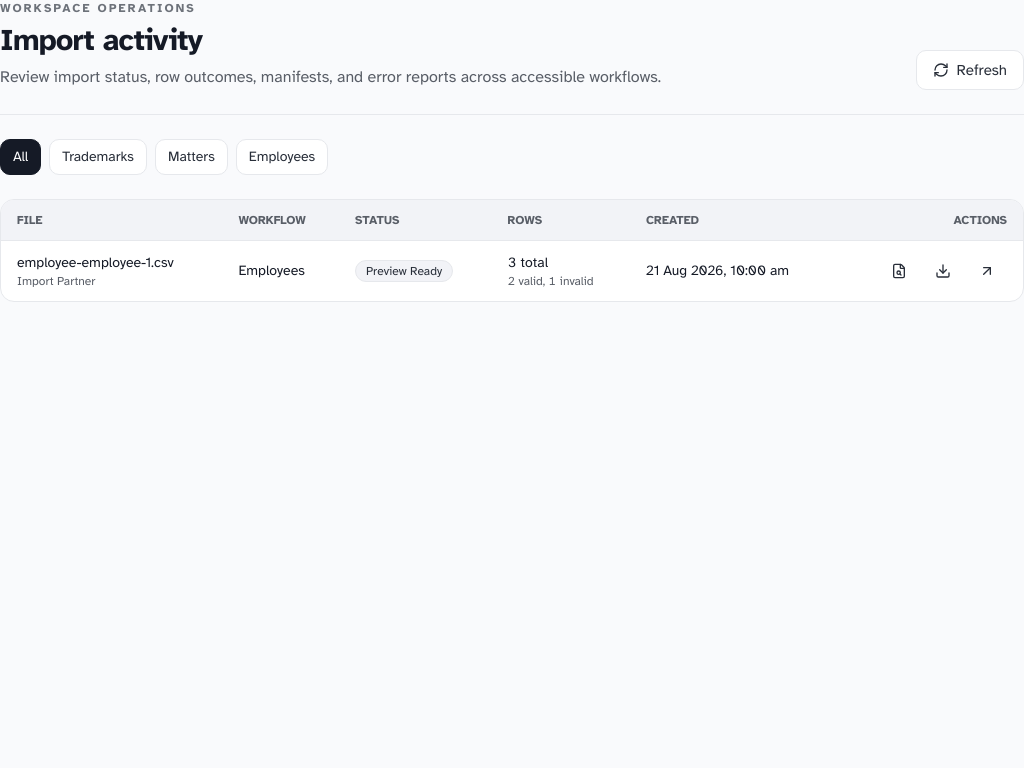
Test: ImportActivityPage › filters by domain and exposes legacy manifest limitations
Click the tab "Employees" at [282, 157], box [236,139,328,175]
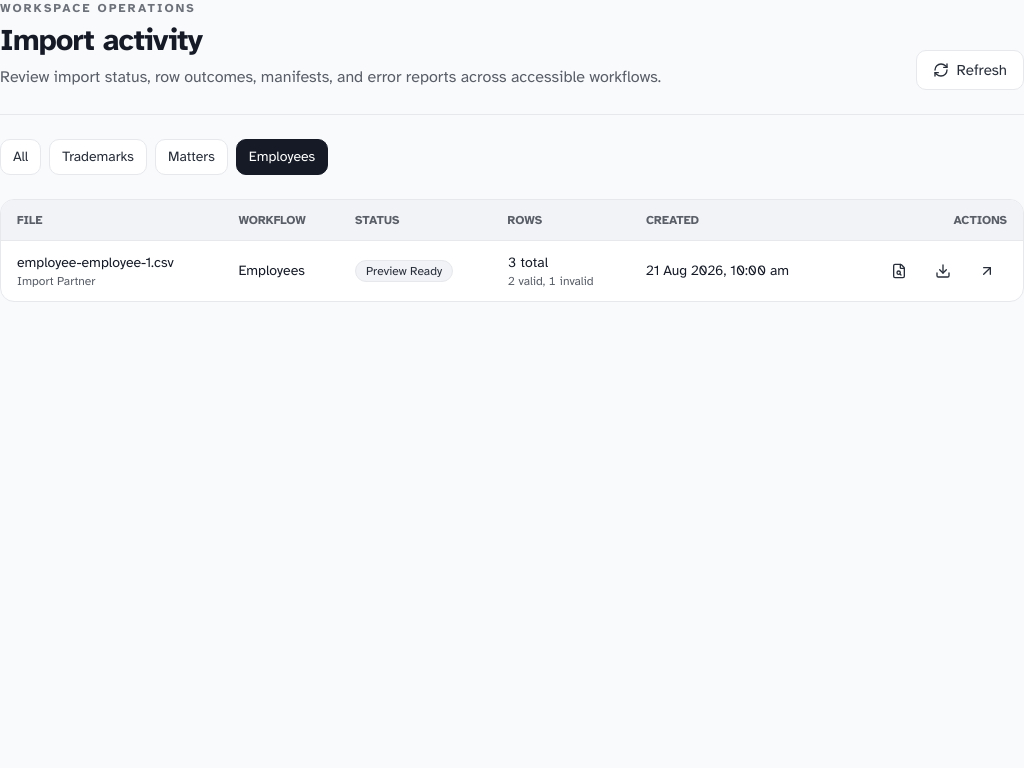
Click the button named "View manifest for employee-employee-1.csv" at [899, 271], box [879,255,919,287]
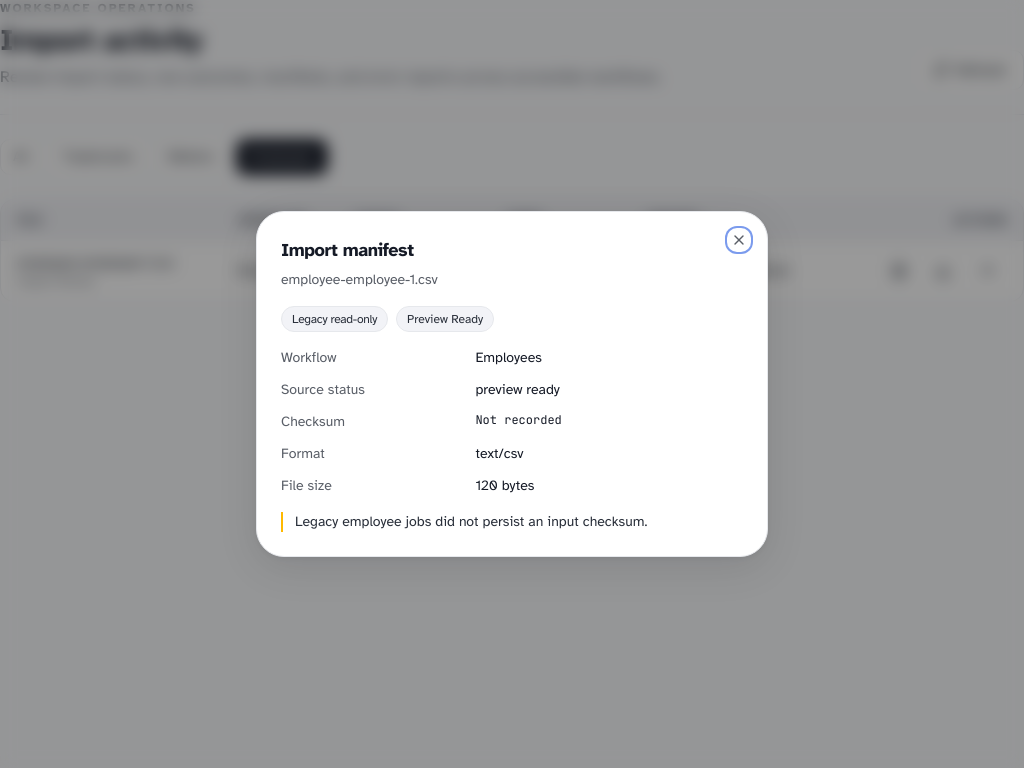
Check: the text "Legacy read-only" is shown, box [281,306,388,332]
Check: the text "Legacy employee jobs did not persist an input checksum." is shown, box [295,513,647,530]
Check: the text "Not recorded" is shown, box [475,412,562,428]
